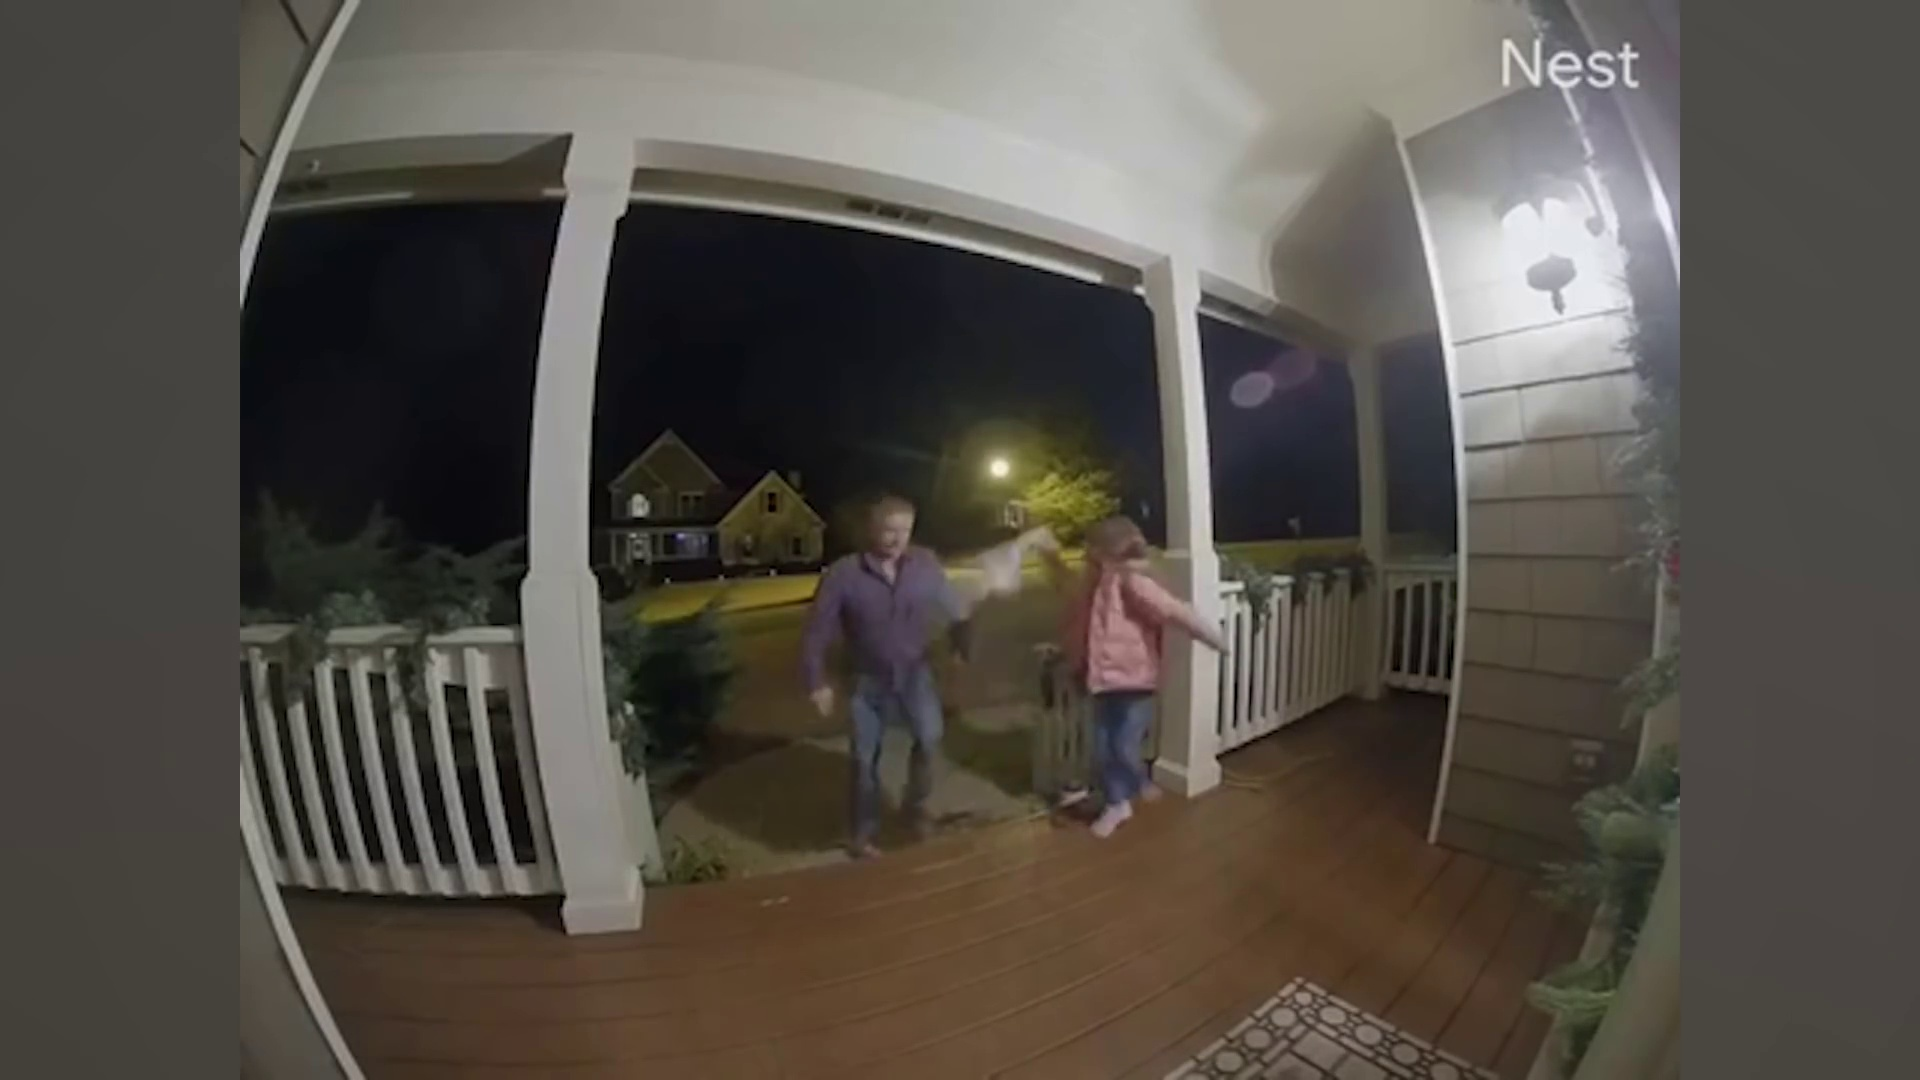face: (881, 518, 911, 556)
